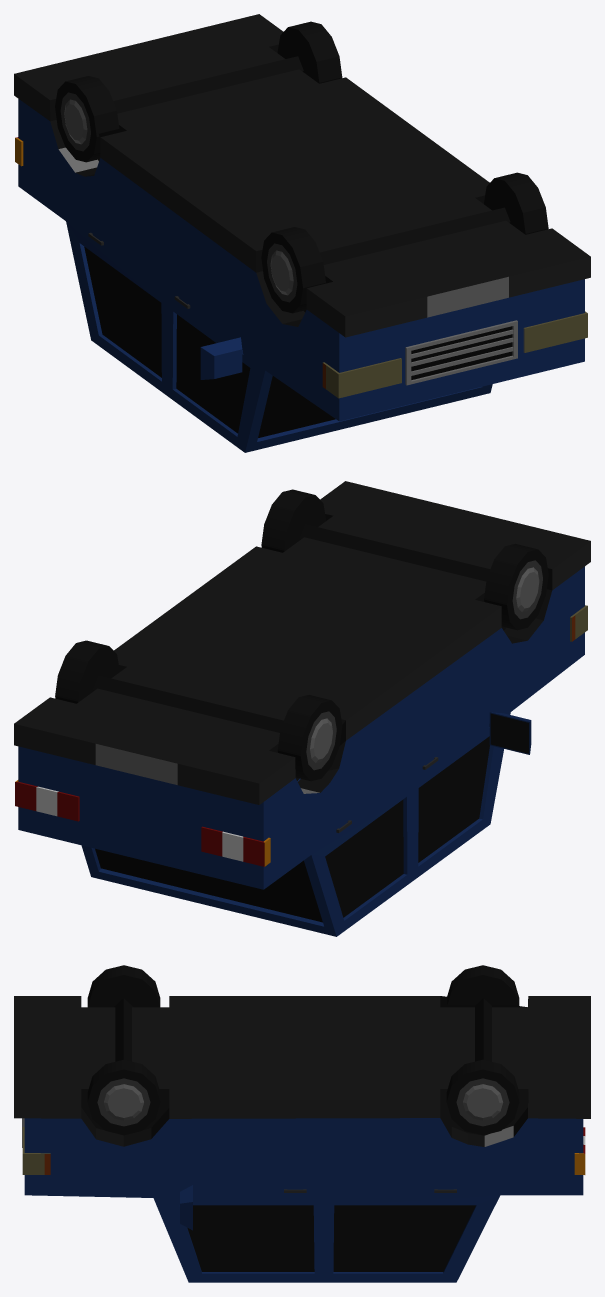
The model's file is car2.FBX.
3 renders of one model, top to bottom at view 1: azimuth 30°, elevation 25°; view 2: azimuth 150°, elevation 25°; view 3: azimuth 270°, elevation 25°, orthographic. The views are drawn at different scales.
Visible parts, largest first — view 1: car2; view 2: car2; view 3: car2.
Boxes of the visible parts, x1,y1,x2,y2 form: car2: (14,14,590,452); car2: (14,481,590,936); car2: (14,965,590,1282).
Size of the model in its own units: 3.31 by 2.34 by 5.74.
